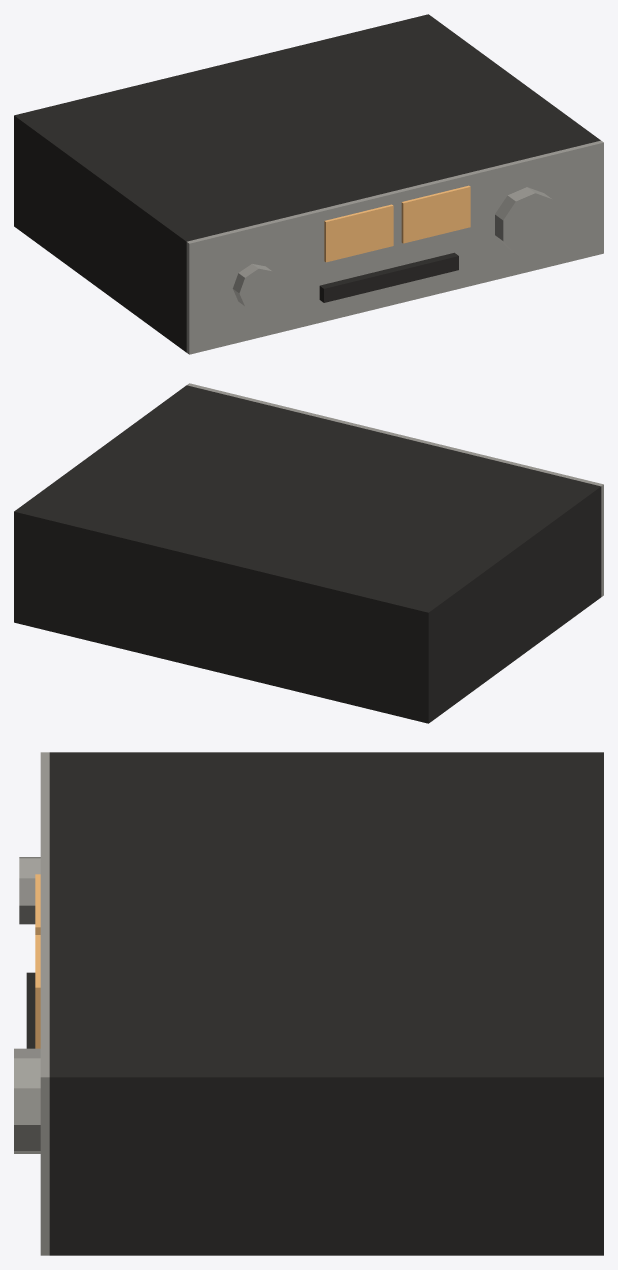
The model's file is integrated-amp.glb.
3 renders of one model, top to bottom at view 1: azimuth 30°, elevation 25°; view 2: azimuth 150°, elevation 25°; view 3: azimuth 270°, elevation 25°, orthographic. The views are drawn at different scales.
Parts seen in each view (by area): view 1: plastic-dark, brushed, emissive-warm; view 2: plastic-dark, brushed; view 3: plastic-dark, brushed, emissive-warm.
Part boxes in pixels (left/top/right/bottom): plastic-dark: left=14, top=14, right=600, bottom=352; brushed: left=186, top=140, right=603, bottom=354; emissive-warm: left=324, top=185, right=470, bottom=262; plastic-dark: left=14, top=385, right=601, bottom=723; brushed: left=187, top=383, right=603, bottom=596; plastic-dark: left=26, top=752, right=603, bottom=1255; brushed: left=14, top=752, right=49, bottom=1255; emissive-warm: left=35, top=874, right=40, bottom=1048.
Size of the model in its own units: 0.43 by 0.12 by 0.33.
